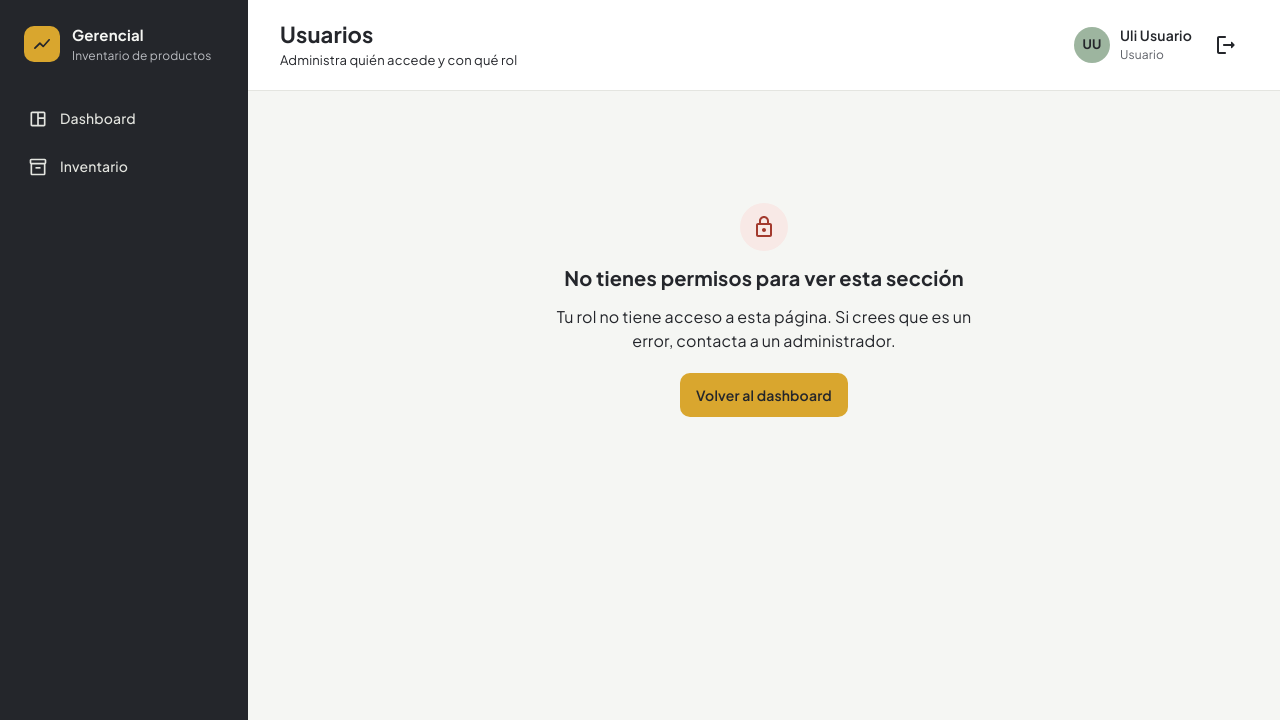
auth routes › hides Usuarios from a USER and shows the no-access page at /users
Expected: the heading "No tienes permisos para ver esta sección" is shown, [564,263,964,293]
Expected: the link "Inventario" is shown, [28,156,128,176]
Click the link "Volver al dashboard": (764, 395) [680,373,848,417]
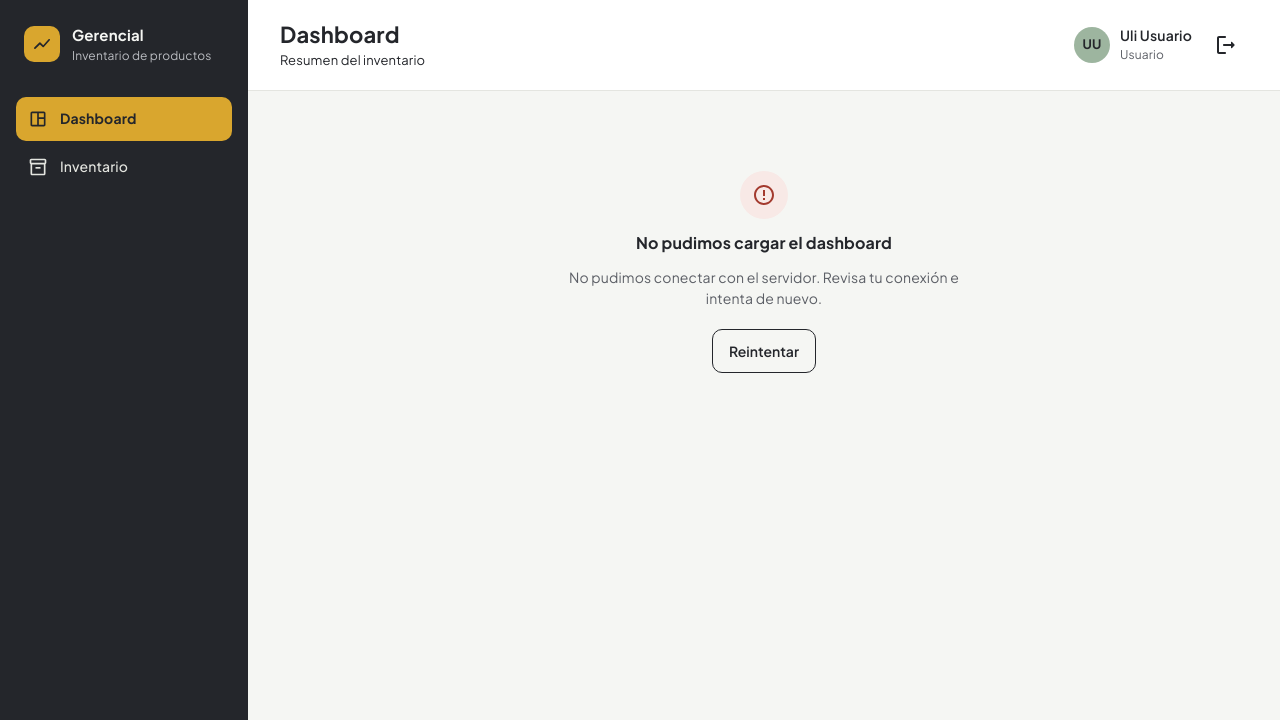
Expected: the heading "Dashboard" is shown, [280,20,400,48]
